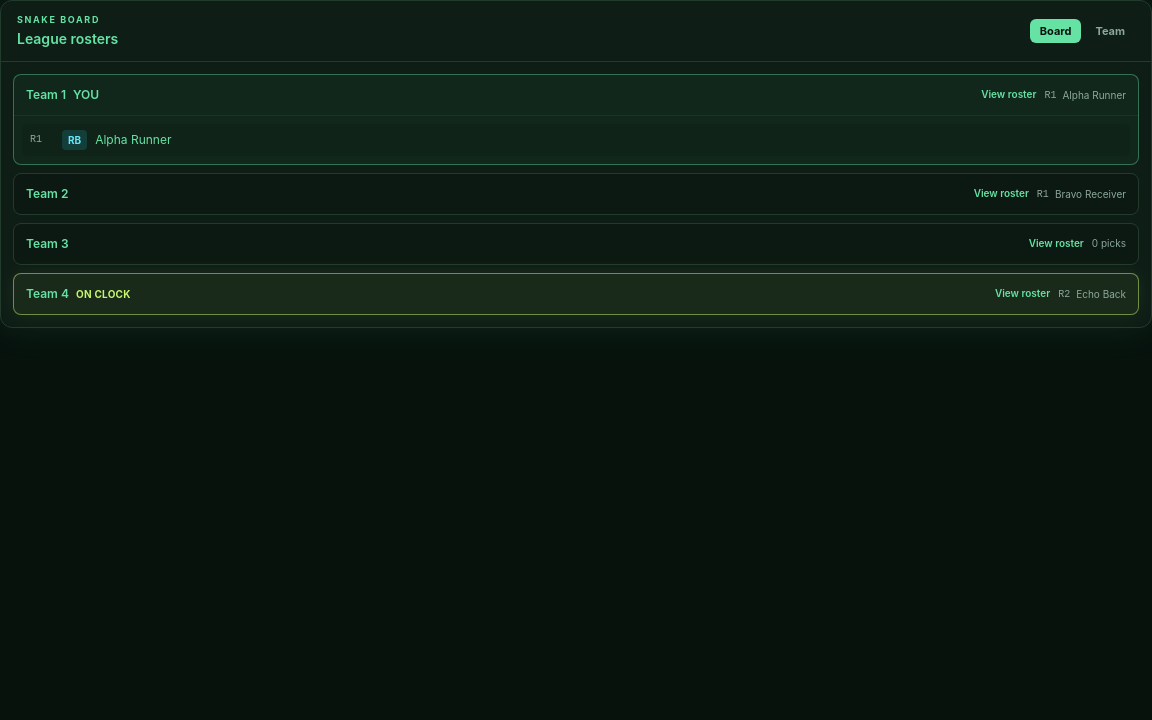
snake board rosters › shows only the selected team picks in team view
The width and height of the screenshot is (1152, 720).
Click the tab with test id "roster-view-team": (1110, 31) [1085, 18, 1135, 43]
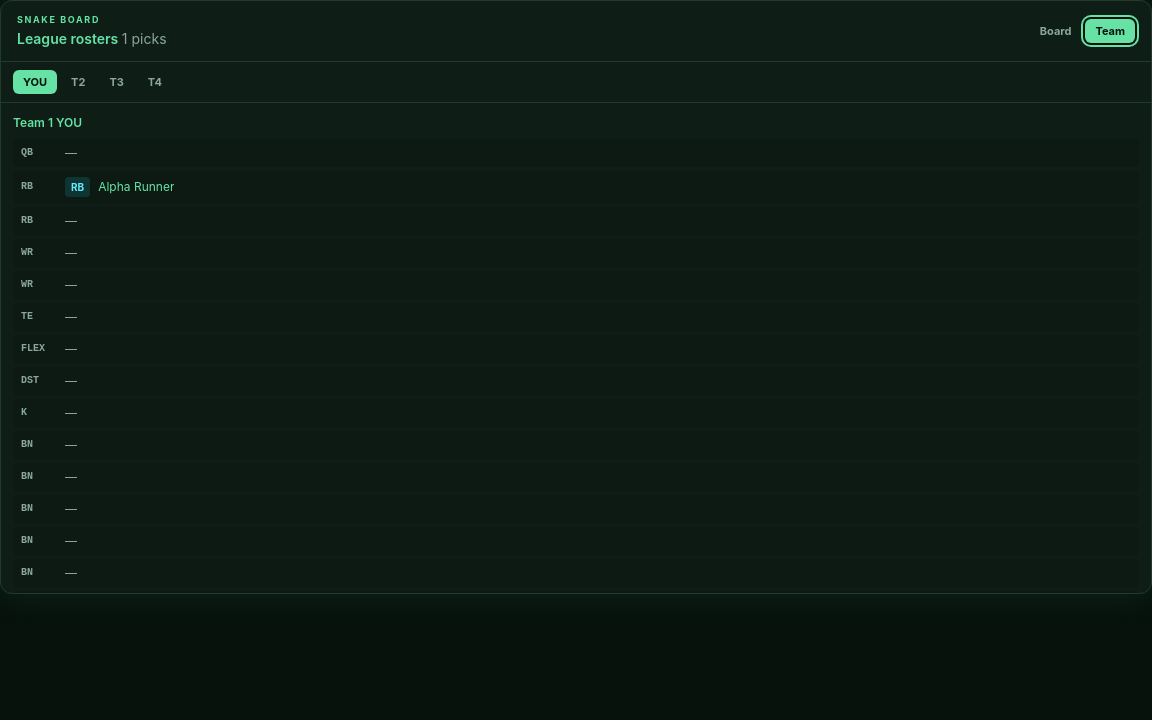
Expected: the element with test id "roster-team-detail-1" no longer shows "Bravo Receiver"
Expected: the element with test id "roster-team-detail-1" no longer shows "Echo Back"
Expected: the element with test id "roster-slot-RB-0" shows "Alpha Runner", [98, 179, 174, 194]
Click the tab with test id "roster-team-chip-4": (155, 82) [138, 70, 172, 94]
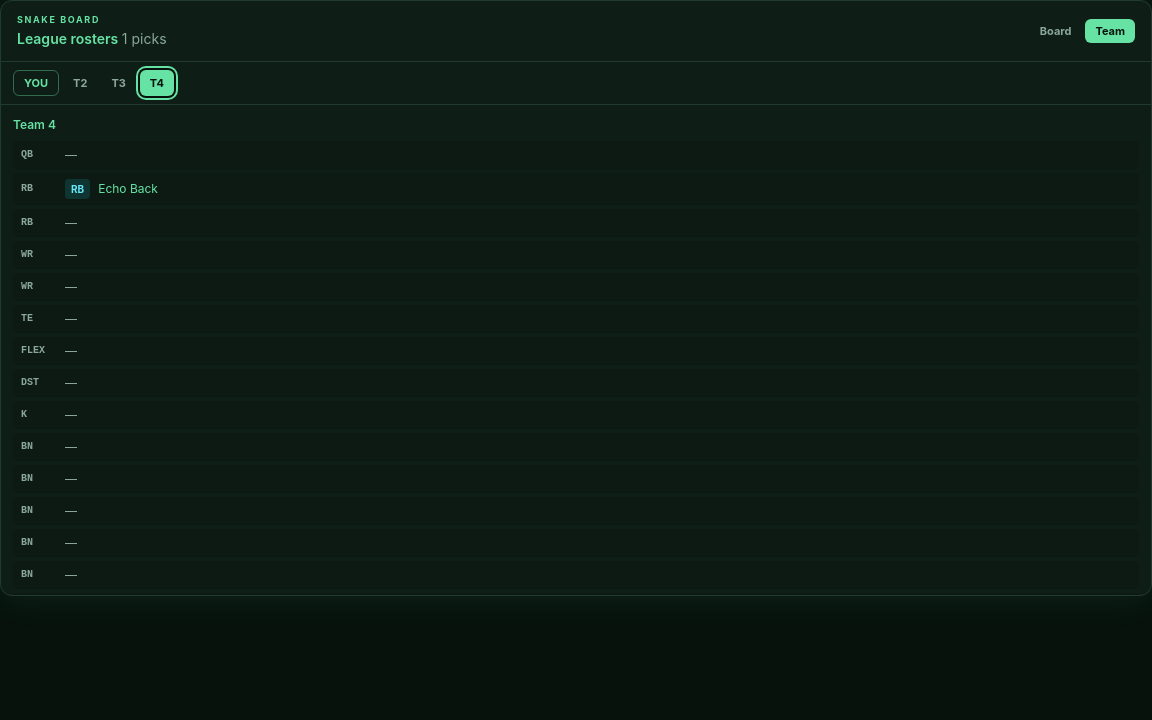
Expected: the element with test id "roster-team-detail-4" shows "Echo Back", [98, 181, 158, 196]
Expected: the element with test id "roster-slot-RB-0" shows "Echo Back", [98, 181, 158, 196]
